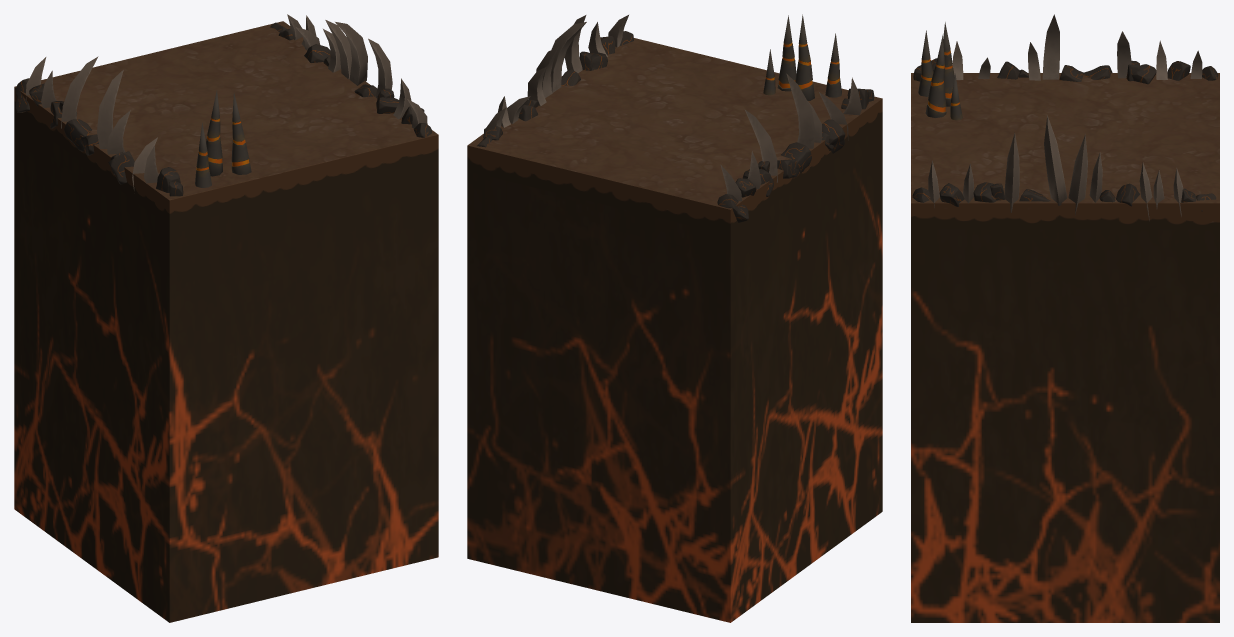
File: Plataforma  Estala Der.fbx
3 renders of one model, left to right at view 1: azimuth 30°, elevation 25°; view 2: azimuth 150°, elevation 25°; view 3: azimuth 270°, elevation 25°, orthographic. The views are drawn at different scales.
Visible parts, largest first — view 1: Plataforma 1.006, Cone.014, Cylinder.021, Cone.004, Cylinder.020, Cone.001, Cone.008, Cone.011, Cylinder.008; view 2: Plataforma 1.006, Cone.004, Cylinder.020, Cone.014, Cylinder.021, Cone.001, Cylinder.008; view 3: Plataforma 1.006, Cone.014, Cylinder.021, Cone.004, Cone.011, Cone.008, Cylinder.020, Cylinder.008, Cone.001, Cone.012.
Part boxes in pixels (<box>): Plataforma 1.006: <box>14,21,438,622</box>; Cone.014: <box>335,22,367,85</box>; Cylinder.021: <box>231,93,251,174</box>; Cone.004: <box>97,70,123,148</box>; Cylinder.020: <box>206,90,222,176</box>; Cone.001: <box>61,56,98,128</box>; Cone.008: <box>368,38,392,98</box>; Cone.011: <box>325,20,351,79</box>; Cylinder.008: <box>195,123,211,187</box>; Plataforma 1.006: <box>467,38,882,622</box>; Cone.004: <box>786,73,815,148</box>; Cylinder.020: <box>795,14,814,100</box>; Cone.014: <box>550,22,586,92</box>; Cylinder.021: <box>777,15,796,91</box>; Cone.001: <box>744,109,777,182</box>; Cylinder.008: <box>825,33,841,97</box>; Plataforma 1.006: <box>911,73,1219,622</box>; Cone.014: <box>1044,115,1067,205</box>; Cylinder.021: <box>925,35,946,117</box>; Cone.004: <box>1042,14,1059,79</box>; Cone.011: <box>1068,134,1087,215</box>; Cone.008: <box>1004,132,1019,212</box>; Cylinder.020: <box>943,22,954,106</box>; Cylinder.008: <box>918,30,933,96</box>; Cone.001: <box>1117,31,1131,78</box>; Cone.012: <box>1089,152,1102,202</box>.
Size of the model in its own units: 1058 by 1795 by 1000.
